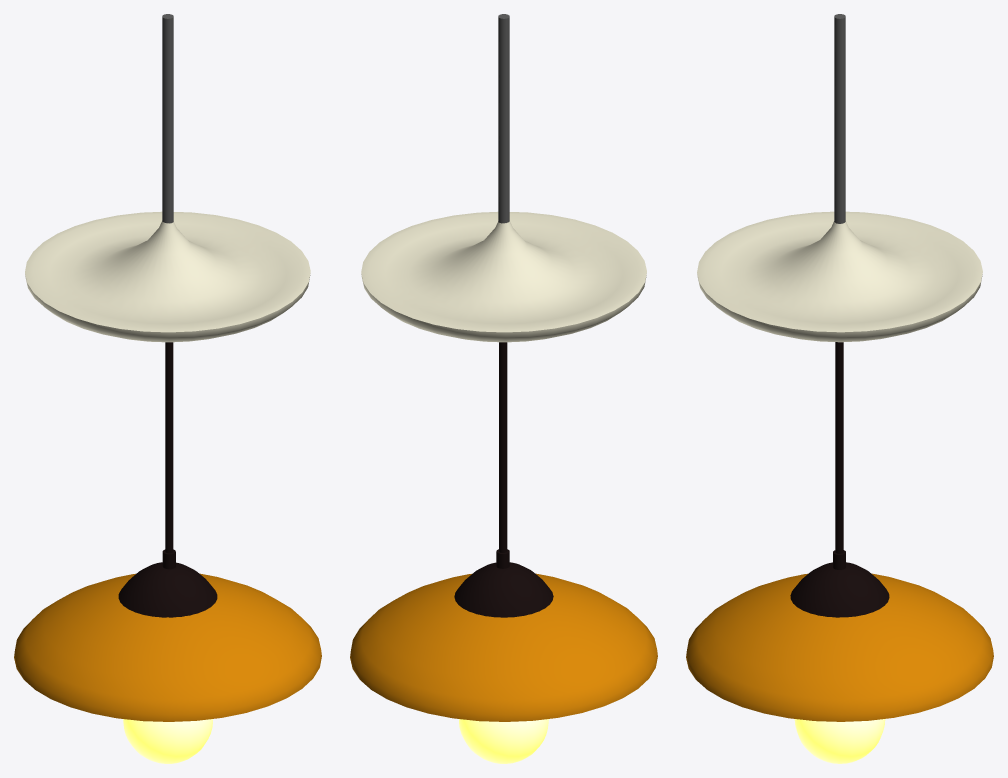
Rendered from SmallLamp.fbx.
The picture shows the model from 3 angles, left to right: view 1: azimuth 30°, elevation 25°; view 2: azimuth 150°, elevation 25°; view 3: azimuth 270°, elevation 25°; orthographic projection.
Visible parts, largest first — view 1: Top, Plate, Cap, Bulb, Wire, WireMain; view 2: Top, Plate, Cap, Bulb, Wire, WireMain; view 3: Top, Plate, Cap, Bulb, Wire, WireMain.
Boxes of the visible parts, x1,y1,x2,y2 form: Top: [14, 573, 321, 721]; Plate: [25, 211, 310, 342]; Cap: [118, 562, 217, 617]; Bulb: [123, 719, 212, 763]; Wire: [162, 14, 173, 223]; WireMain: [162, 342, 175, 569]; Top: [350, 573, 657, 721]; Plate: [361, 211, 646, 342]; Cap: [454, 562, 553, 617]; Bulb: [459, 719, 548, 763]; Wire: [498, 14, 509, 223]; WireMain: [496, 342, 509, 568]; Top: [686, 573, 993, 721]; Plate: [697, 211, 982, 342]; Cap: [790, 562, 889, 617]; Bulb: [794, 719, 885, 763]; Wire: [834, 14, 845, 223]; WireMain: [833, 342, 845, 569].
Size of the model in its own units: 1.74 by 4.63 by 1.74.
